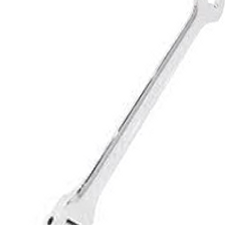wrench: (42, 1, 225, 225)
